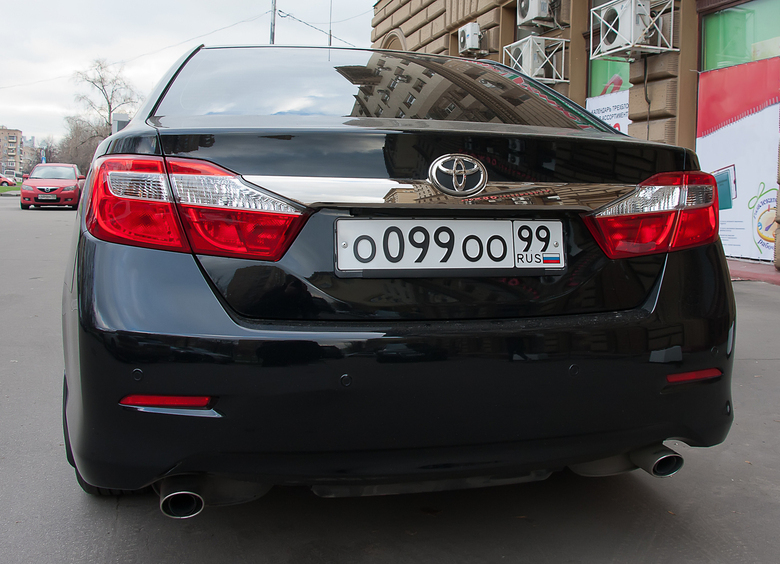number_plate: (333, 212, 570, 273)
